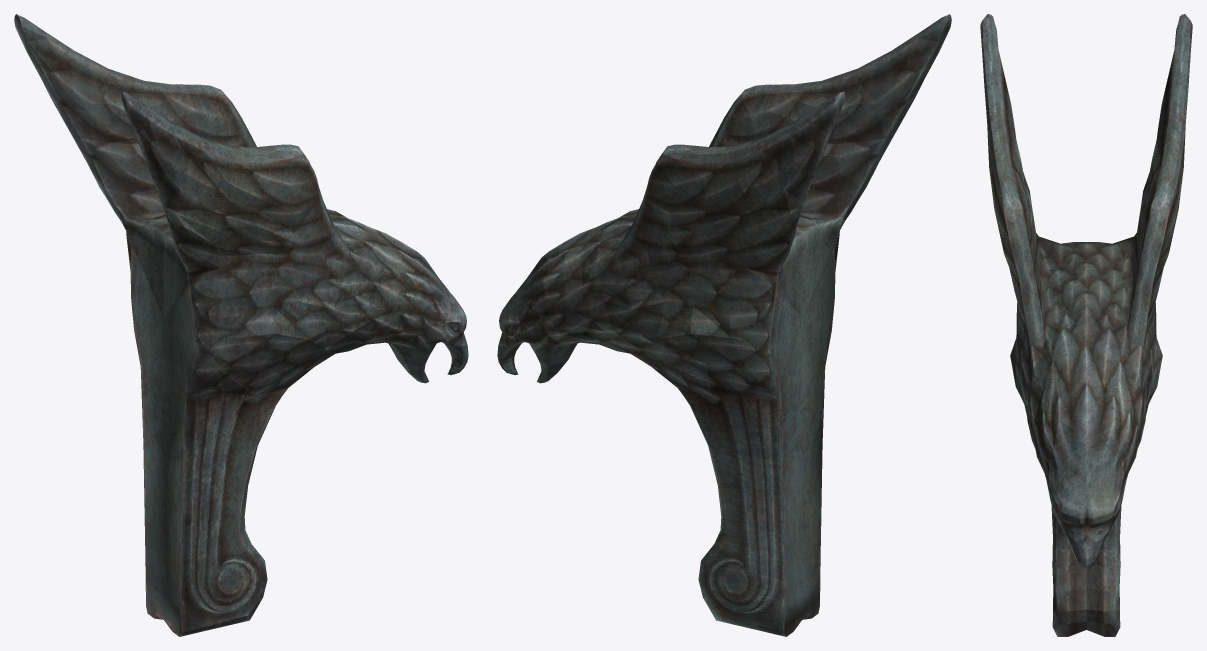
Rendered from bg_lut_lucastle_entrancedeco01_sm_bjh.FBX.
3 views of the same model, side by side, from view 1: azimuth 30°, elevation 25°; view 2: azimuth 150°, elevation 25°; view 3: azimuth 270°, elevation 25° (orthographic). The views are drawn at different scales.
Visible parts, largest first — view 1: bg_lut_lucastle_entrancedeco01_sm_bjh; view 2: bg_lut_lucastle_entrancedeco01_sm_bjh; view 3: bg_lut_lucastle_entrancedeco01_sm_bjh.
Part boxes in pixels (x1=…): bg_lut_lucastle_entrancedeco01_sm_bjh: x1=14, y1=14, x2=468, y2=636; bg_lut_lucastle_entrancedeco01_sm_bjh: x1=497, y1=14, x2=951, y2=636; bg_lut_lucastle_entrancedeco01_sm_bjh: x1=980, y1=14, x2=1192, y2=636.
Size of the model in its own units: 132 by 188 by 66.02.
